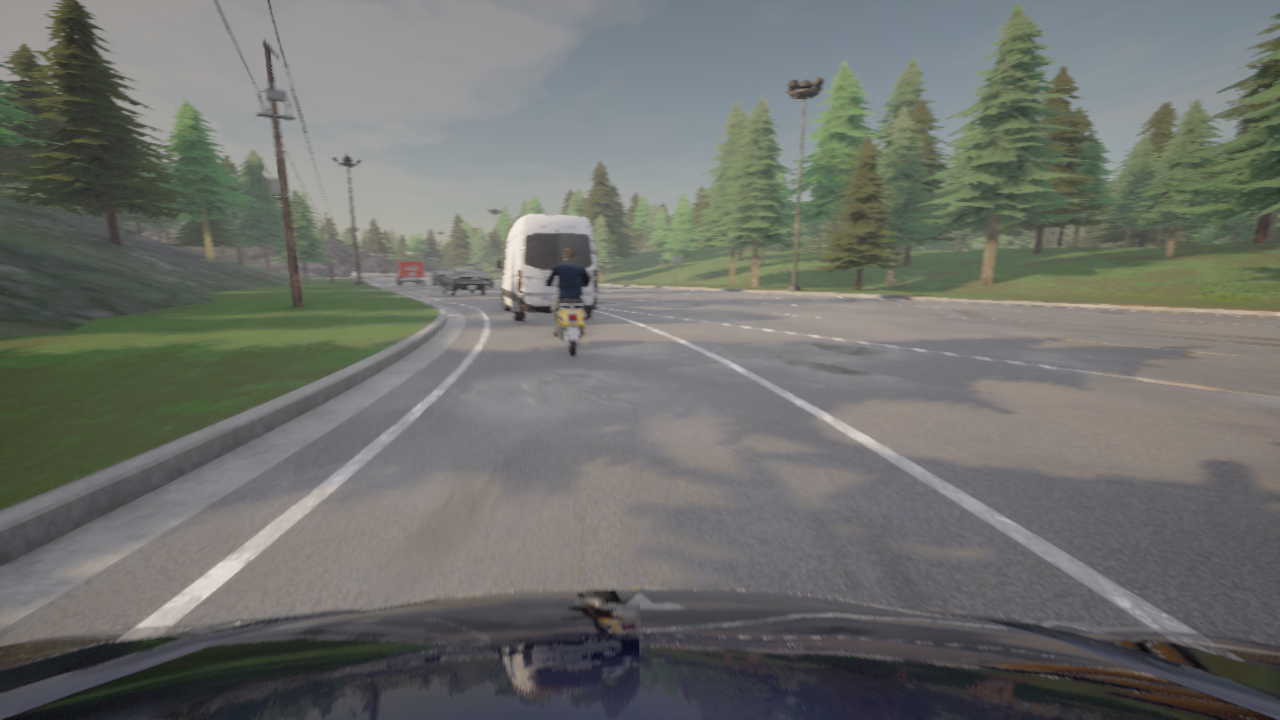cyclist: (0, 588, 1279, 719), (496, 215, 598, 321), (540, 271, 593, 356), (440, 268, 486, 295), (393, 260, 426, 285), (477, 269, 494, 288), (433, 269, 449, 284), (402, 281, 404, 283), (431, 275, 432, 279)
